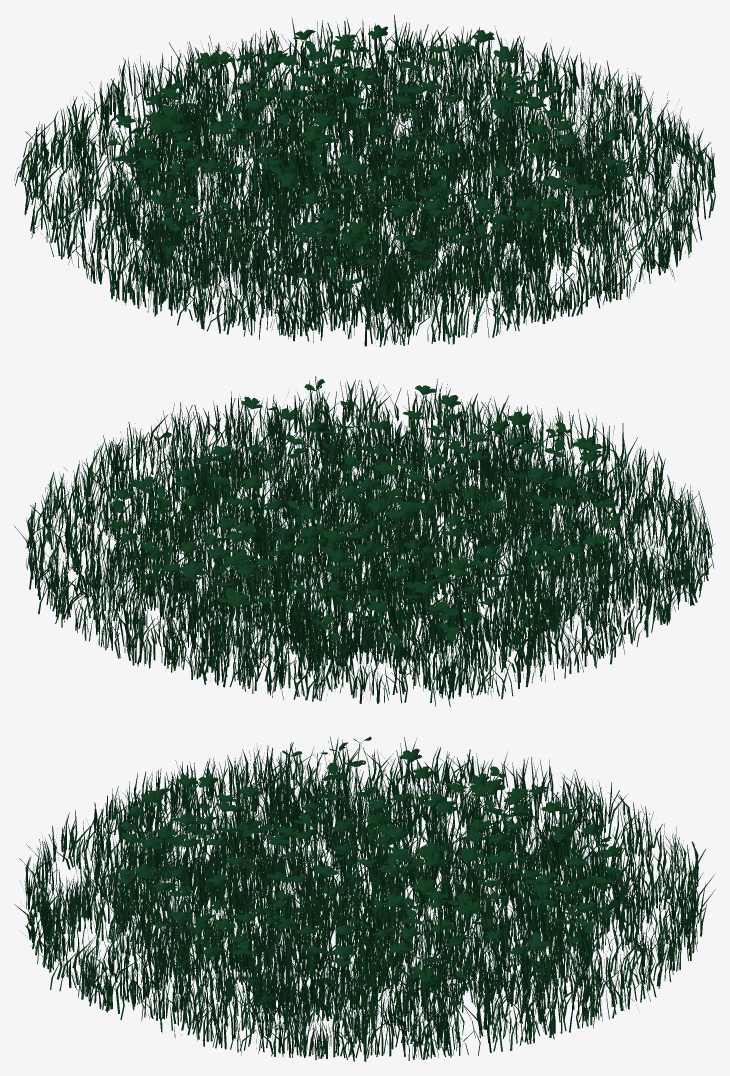
File: Grass2.FBX
3 views of the same model, one above another, from view 1: azimuth 30°, elevation 25°; view 2: azimuth 150°, elevation 25°; view 3: azimuth 270°, elevation 25° (orthographic).
Parts seen in each view (by area): view 1: Grass2; view 2: Grass2; view 3: Grass2.
Part boxes in pixels (<box>): Grass2: <box>14,14,715,346</box>; Grass2: <box>14,376,715,706</box>; Grass2: <box>14,736,715,1061</box>.
Size of the model in its own units: 104 by 12.62 by 104.
